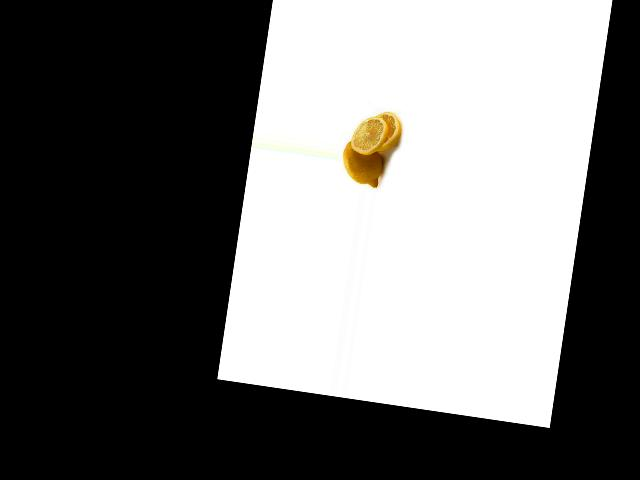lemon: (337, 137, 389, 193)
